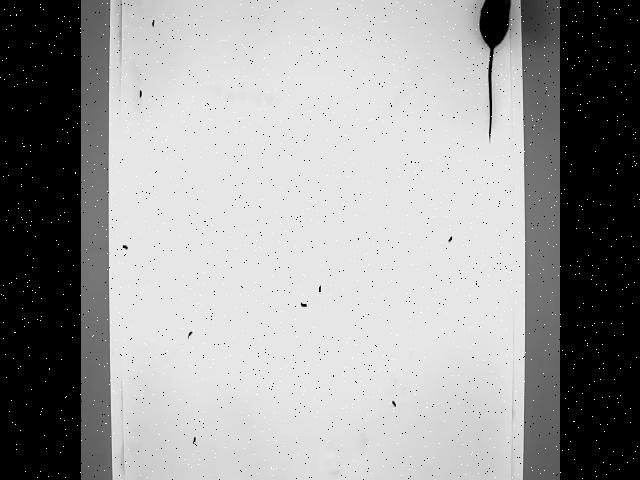Tikus: (473, 0, 516, 145)
